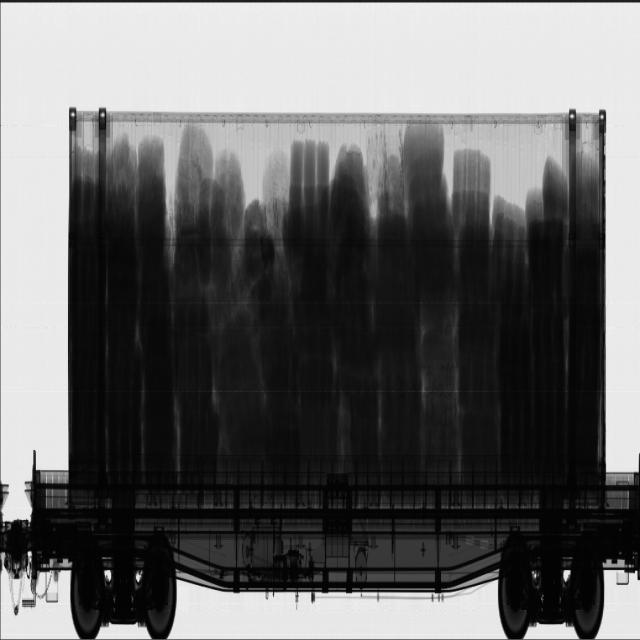clothes: (71, 120, 598, 472)
